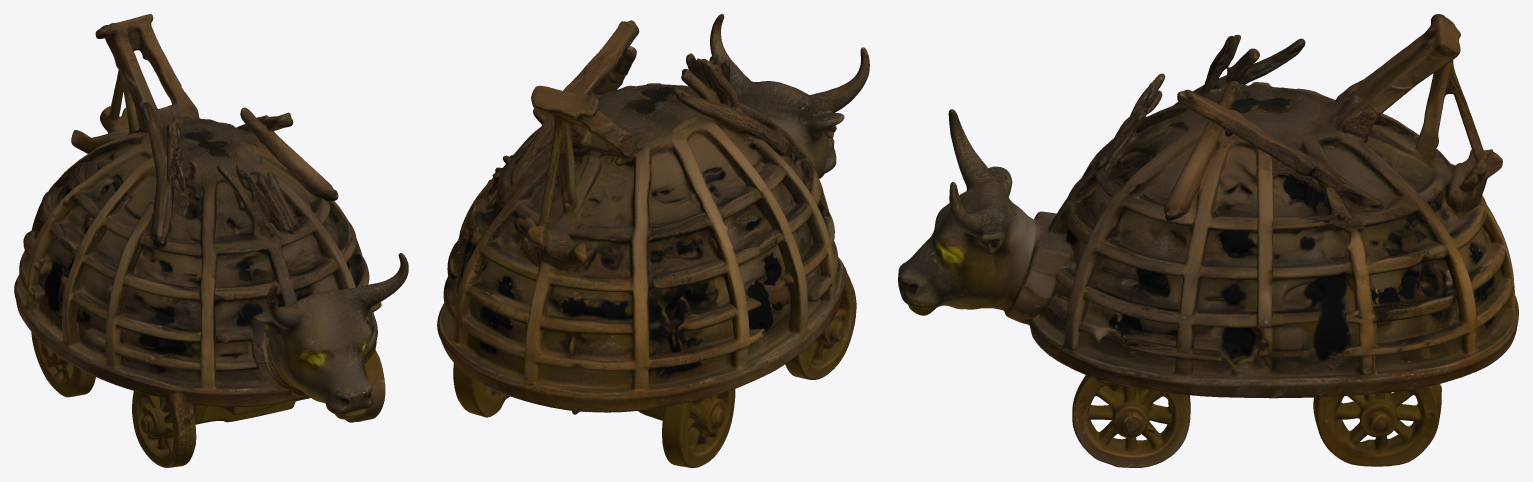
The picture shows the model from 3 angles, left to right: view 1: azimuth 30°, elevation 25°; view 2: azimuth 150°, elevation 25°; view 3: azimuth 270°, elevation 25°; orthographic projection. The views are drawn at different scales.
Visible parts, largest first — view 1: tripo_node_c8ba32de-ea5f-468e-8918-a08a36b9d1f0; view 2: tripo_node_c8ba32de-ea5f-468e-8918-a08a36b9d1f0; view 3: tripo_node_c8ba32de-ea5f-468e-8918-a08a36b9d1f0.
Boxes of the visible parts, x1,y1,x2,y2 form: tripo_node_c8ba32de-ea5f-468e-8918-a08a36b9d1f0: [14, 14, 408, 467]; tripo_node_c8ba32de-ea5f-468e-8918-a08a36b9d1f0: [437, 14, 869, 467]; tripo_node_c8ba32de-ea5f-468e-8918-a08a36b9d1f0: [898, 14, 1518, 467].
Bounding box in the file's own units: 0.6111 × 0.6923 × 1.
Materials: 1 (1 with a texture image).
